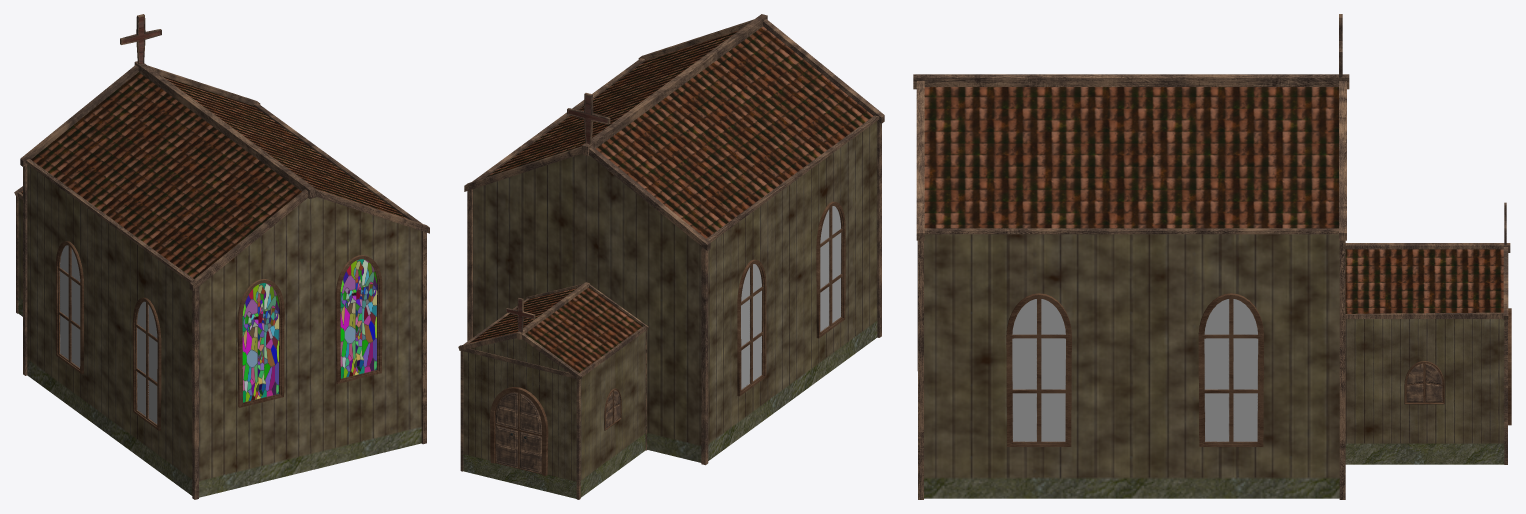
Rendered from old_wooden_church.glb.
3 renders of one model, left to right at view 1: azimuth 30°, elevation 25°; view 2: azimuth 150°, elevation 25°; view 3: azimuth 270°, elevation 25°, orthographic. The views are drawn at different scales.
Visible parts, largest first — view 1: Base; view 2: Base; view 3: Base.
Boxes of the visible parts, x1,y1,x2,y2 form: Base: (14, 14, 429, 499); Base: (458, 14, 884, 499); Base: (913, 14, 1511, 499).
Bounding box in the file's own units: 7.27 × 9.75 × 12.77.
4 materials, 4 textured.
